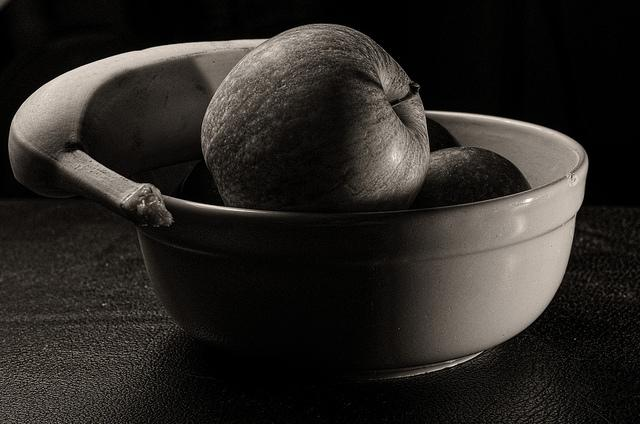apple: (202, 22, 430, 213), (407, 146, 532, 210), (176, 159, 226, 207), (426, 117, 463, 153)
banana: (8, 39, 270, 228)
